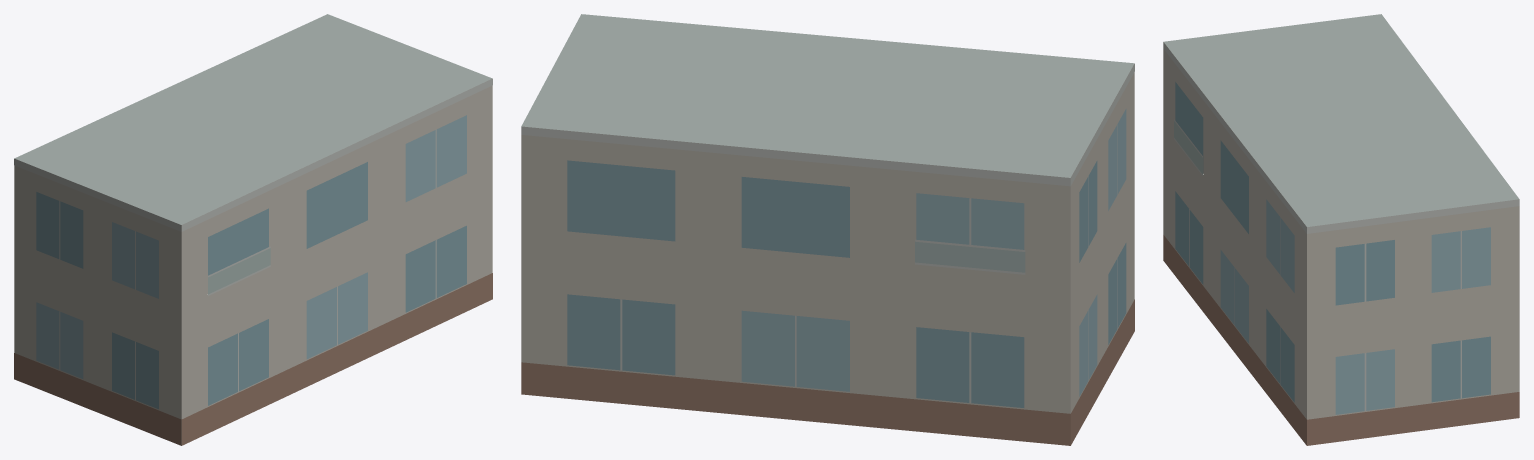
Rendered from survey-upis-33032652.glb.
3 views of the same model, side by side, from view 1: azimuth 30°, elevation 25°; view 2: azimuth 150°, elevation 25°; view 3: azimuth 270°, elevation 25° (orthographic). The views are drawn at different scales.
Parts seen in each view (by area): view 1: survey-upis-33032652.tmp; view 2: survey-upis-33032652.tmp; view 3: survey-upis-33032652.tmp.
Part boxes in pixels (x1,y1,x2,y2): survey-upis-33032652.tmp: [14, 14, 492, 445]; survey-upis-33032652.tmp: [521, 14, 1134, 445]; survey-upis-33032652.tmp: [1163, 14, 1519, 445].
Bounding box in the file's own units: 16.31 × 7.8 × 11.52.
